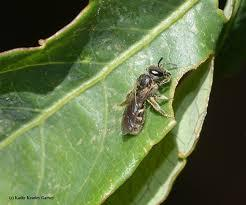Lasioglossum: (116, 55, 176, 132)
